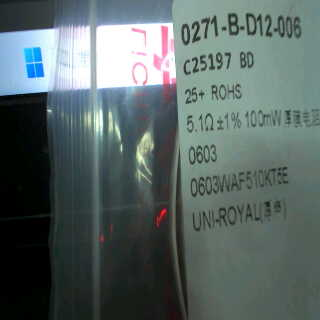5.1R: (184, 111, 215, 135)
